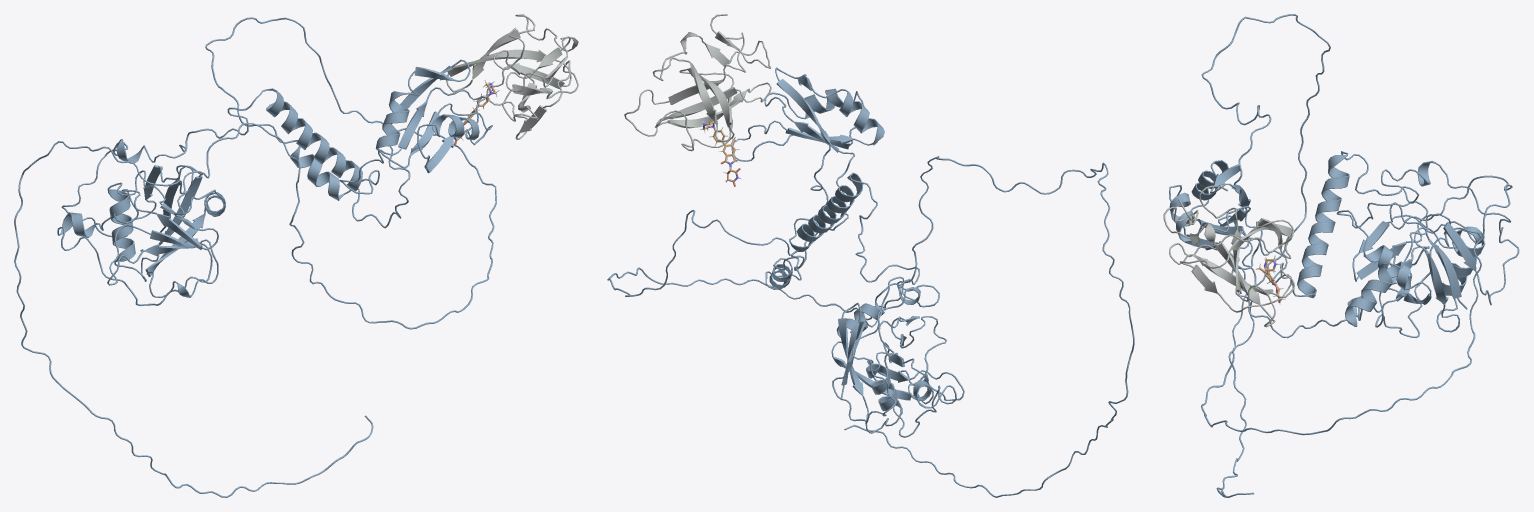
3 renders of one model, left to right at view 1: azimuth 30°, elevation 25°; view 2: azimuth 150°, elevation 25°; view 3: azimuth 270°, elevation 25°, orthographic. The views are drawn at different scales.
Parts seen in each view (by area): view 1: node-geom102, node-geom103; view 2: node-geom102, node-geom103; view 3: node-geom102, node-geom103.
Boxes of the visible parts, bbox=[...] form: node-geom102: bbox=[57, 14, 578, 305]; node-geom103: bbox=[14, 17, 496, 497]; node-geom102: bbox=[624, 14, 964, 437]; node-geom103: bbox=[607, 67, 1134, 497]; node-geom102: bbox=[1163, 151, 1519, 337]; node-geom103: bbox=[1169, 14, 1512, 497].
Bounding box in the file's own units: 145 × 103 × 80.25.
